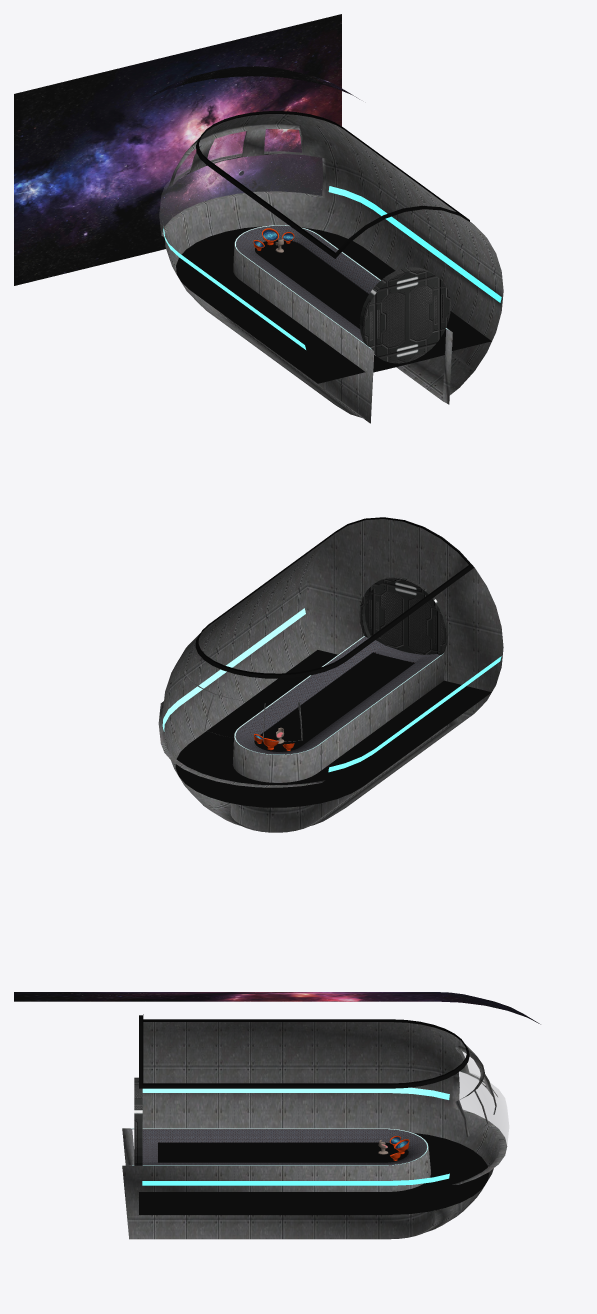
3 views of the same model, one above another, from view 1: azimuth 30°, elevation 25°; view 2: azimuth 150°, elevation 25°; view 3: azimuth 270°, elevation 25° (orthographic). The views are drawn at different scales.
Visible parts, largest first — view 1: Sci-Fi Space Station; view 2: Sci-Fi Space Station; view 3: Sci-Fi Space Station.
Part boxes in pixels (bbox=[...]): Sci-Fi Space Station: bbox=[14, 14, 503, 423]; Sci-Fi Space Station: bbox=[158, 517, 503, 832]; Sci-Fi Space Station: bbox=[14, 992, 540, 1239].
Bounding box in the file's own units: 33.37 × 21.69 × 51.23.
Materials: 14 (6 with a texture image).
